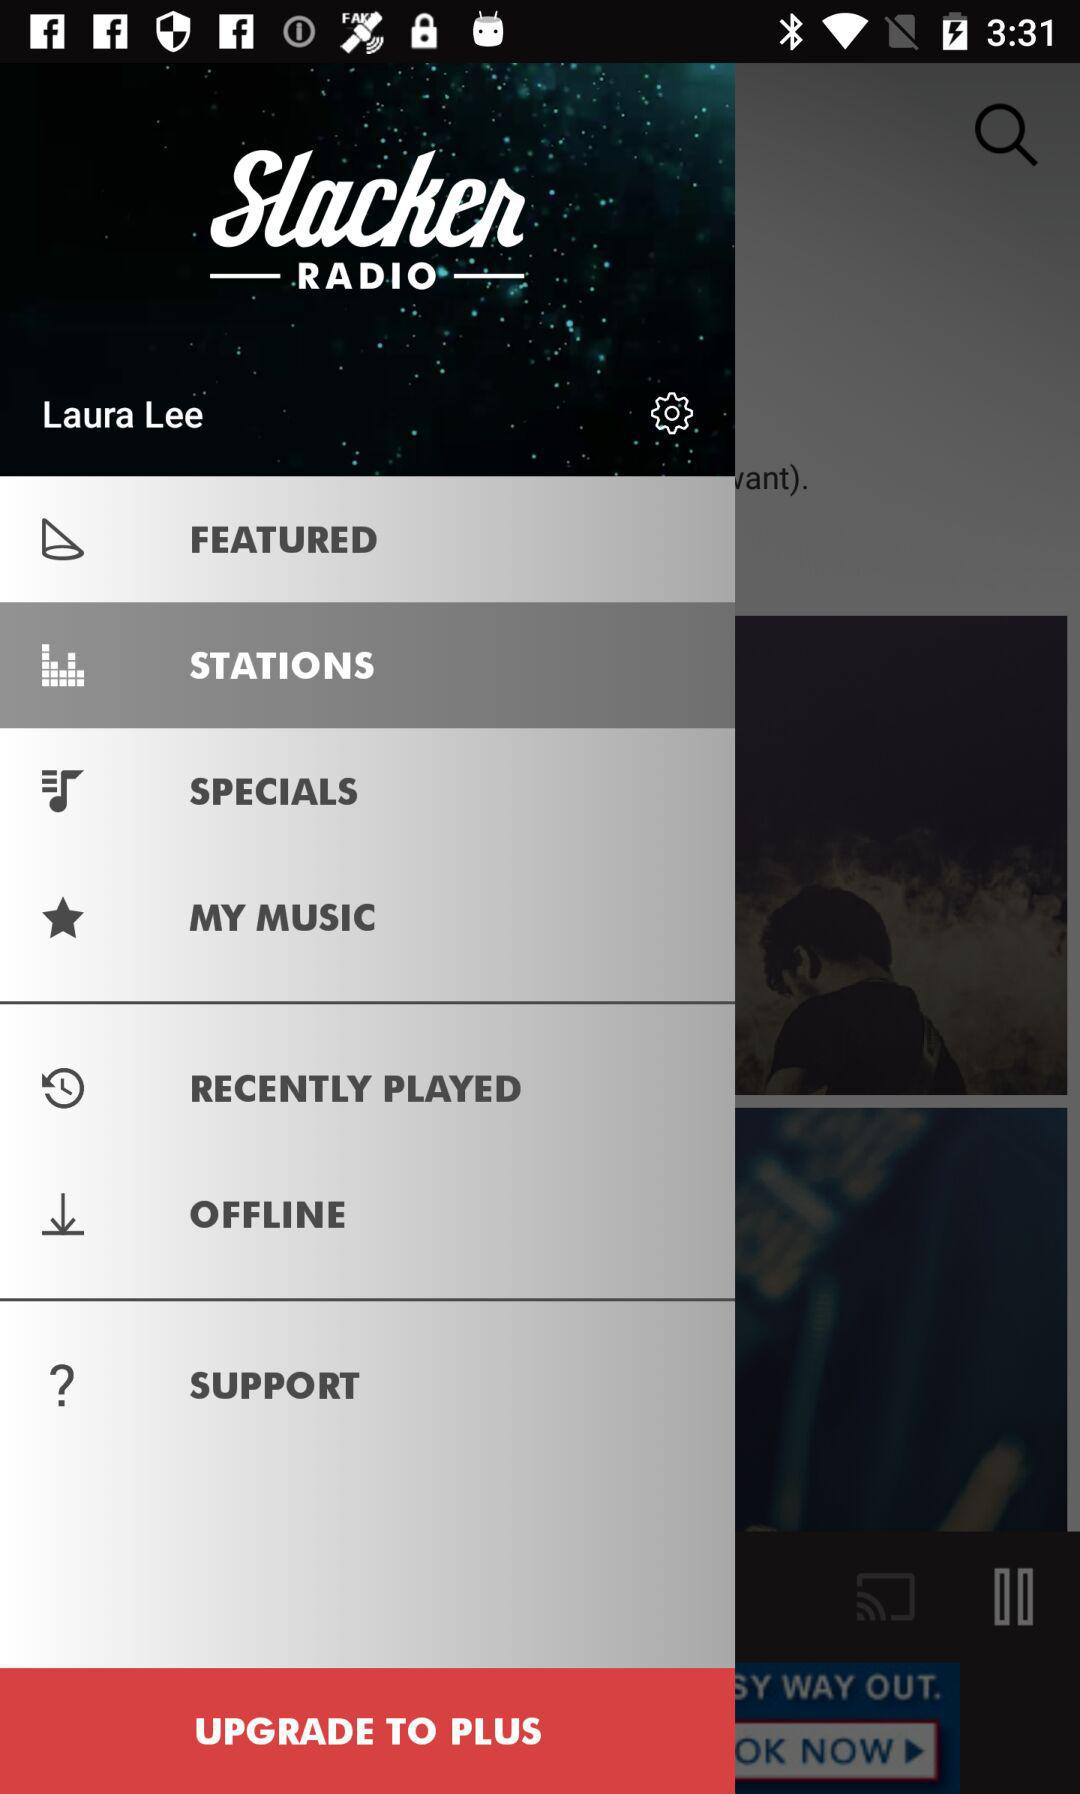Drawer: (1, 64, 735, 1794)
Icon: (974, 104, 1039, 168), (650, 391, 694, 437), (42, 896, 86, 941), (42, 1192, 86, 1237), (42, 1067, 86, 1110), (50, 1363, 76, 1408)
Image: (209, 147, 527, 292), (41, 643, 86, 689), (42, 518, 87, 563), (42, 770, 86, 812)
Text: (191, 1074, 523, 1105), (191, 525, 379, 555), (190, 903, 375, 933), (190, 651, 375, 680), (190, 777, 359, 807), (191, 1371, 361, 1401), (44, 400, 205, 431), (190, 1199, 347, 1230)
TextButton: (1, 1668, 735, 1794)
UpperTaskBar: (1, 1, 1080, 64)
